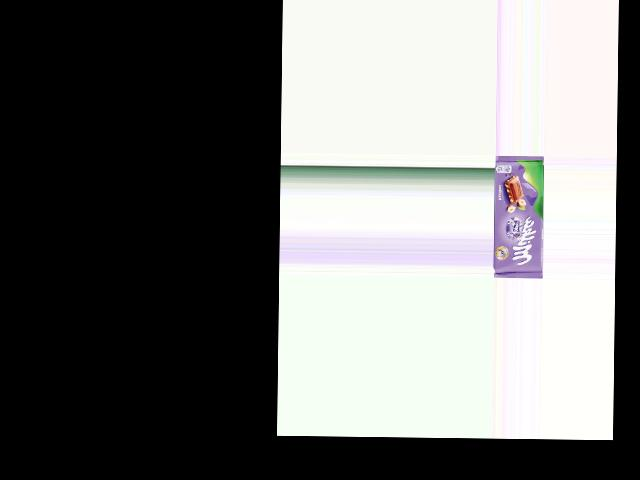chocolate: (492, 155, 544, 278)
